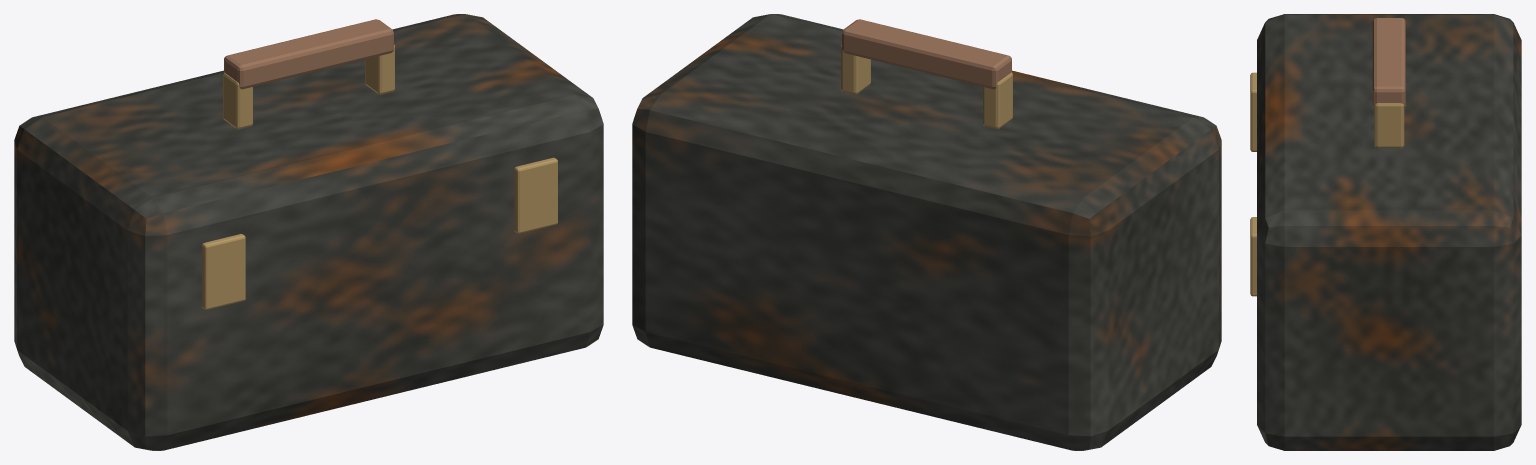
File: perkakas.glb
3 views of the same model, side by side, from view 1: azimuth 30°, elevation 25°; view 2: azimuth 150°, elevation 25°; view 3: azimuth 270°, elevation 25° (orthographic). The views are drawn at different scales.
Parts seen in each view (by area): view 1: Badan.007, Pegangan.003, Pengait.002, Pengait.003, Kaki pegangan.002, Kaki pegangan.003; view 2: Badan.007, Pegangan.003, Kaki pegangan.002, Kaki pegangan.003; view 3: Badan.007, Pegangan.003, Kaki pegangan.003, Pengait.002, Pengait.003.
Boxes of the visible parts, x1=… form: Badan.007: x1=14, y1=14, x2=603, y2=450; Pegangan.003: x1=224, y1=19, x2=393, y2=89; Pengait.002: x1=202, y1=234, x2=245, y2=309; Pengait.003: x1=514, y1=157, x2=557, y2=233; Kaki pegangan.002: x1=223, y1=72, x2=252, y2=129; Kaki pegangan.003: x1=365, y1=44, x2=394, y2=94; Badan.007: x1=632, y1=14, x2=1221, y2=450; Pegangan.003: x1=842, y1=19, x2=1011, y2=89; Kaki pegangan.002: x1=983, y1=72, x2=1012, y2=129; Kaki pegangan.003: x1=841, y1=44, x2=870, y2=94; Badan.007: x1=1257, y1=14, x2=1521, y2=450; Pegangan.003: x1=1372, y1=18, x2=1405, y2=108; Kaki pegangan.003: x1=1374, y1=103, x2=1404, y2=148; Pengait.002: x1=1250, y1=72, x2=1256, y2=151; Pengait.003: x1=1250, y1=217, x2=1256, y2=296.
Size of the model in its own units: 0.47 by 0.3005 by 0.246.
Materials: 3 (1 with a texture image).
